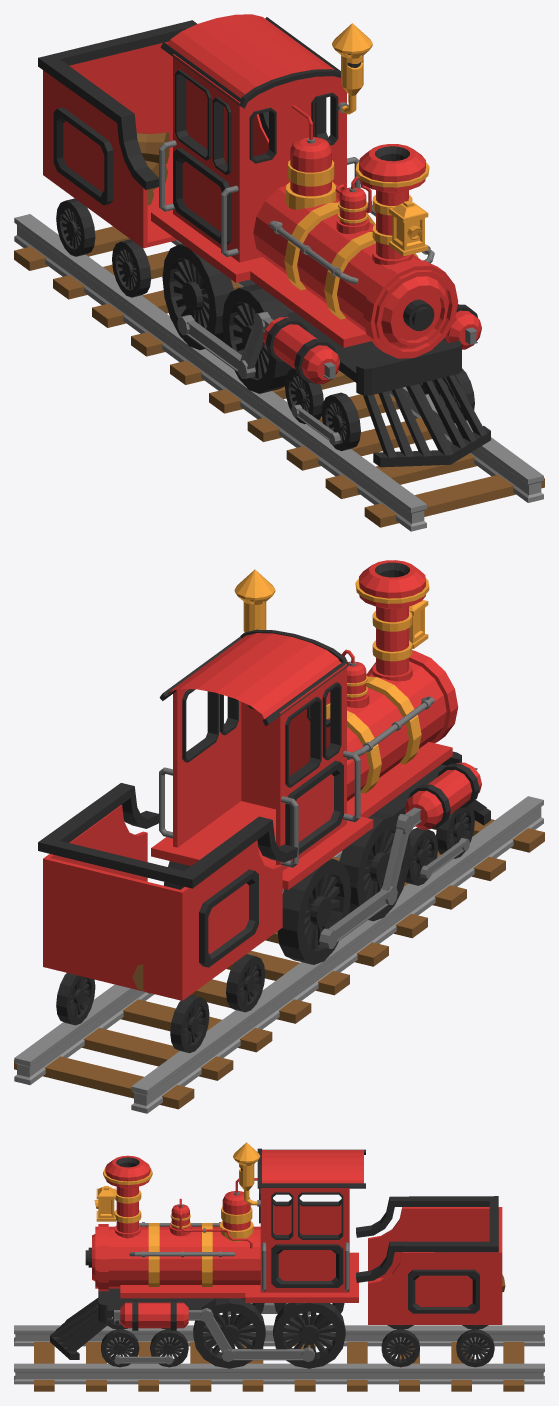
File: okuaizu.glb
3 views of the same model, one above another, from view 1: azimuth 30°, elevation 25°; view 2: azimuth 150°, elevation 25°; view 3: azimuth 270°, elevation 25° (orthographic). The views are drawn at different scales.
Visible parts, largest first — view 1: Steam Locomotive; view 2: Steam Locomotive; view 3: Steam Locomotive.
Boxes of the visible parts, bbox=[...] form: Steam Locomotive: bbox=[14, 14, 544, 531]; Steam Locomotive: bbox=[14, 560, 544, 1113]; Steam Locomotive: bbox=[14, 1142, 544, 1391].
Bounding box in the file's own units: 4.53 × 8.51 × 17.17.
